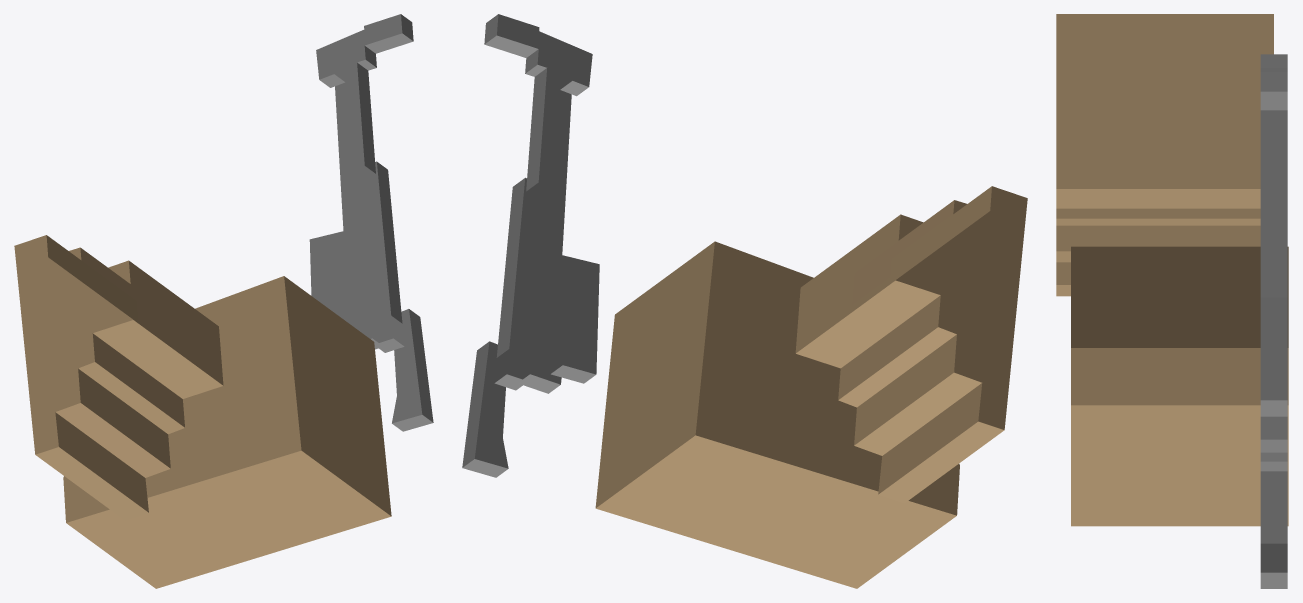
3 views of the same model, side by side, from view 1: azimuth 30°, elevation 25°; view 2: azimuth 150°, elevation 25°; view 3: azimuth 270°, elevation 25° (orthographic). The views are drawn at different scales.
Visible parts, largest first — view 1: 0_3_0_1_1_2_0_3; view 2: 0_3_0_1_1_2_0_3; view 3: 0_3_0_1_1_2_0_3.
Boxes of the visible parts, x1=… form: 0_3_0_1_1_2_0_3: x1=14, y1=14, x2=433, y2=588; 0_3_0_1_1_2_0_3: x1=462, y1=14, x2=1027, y2=588; 0_3_0_1_1_2_0_3: x1=1056, y1=14, x2=1288, y2=588.
Bounding box in the file's own units: 63.6 × 62.85 × 25.6.
